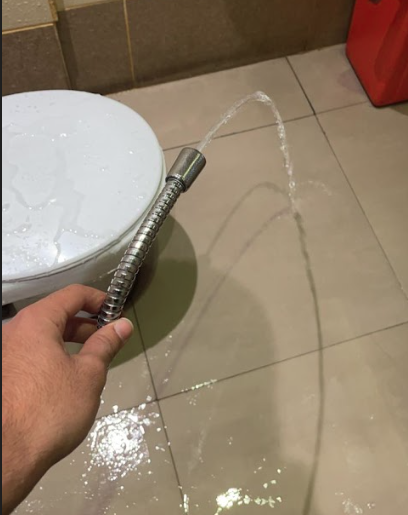Toilet: (75, 64, 337, 379)
